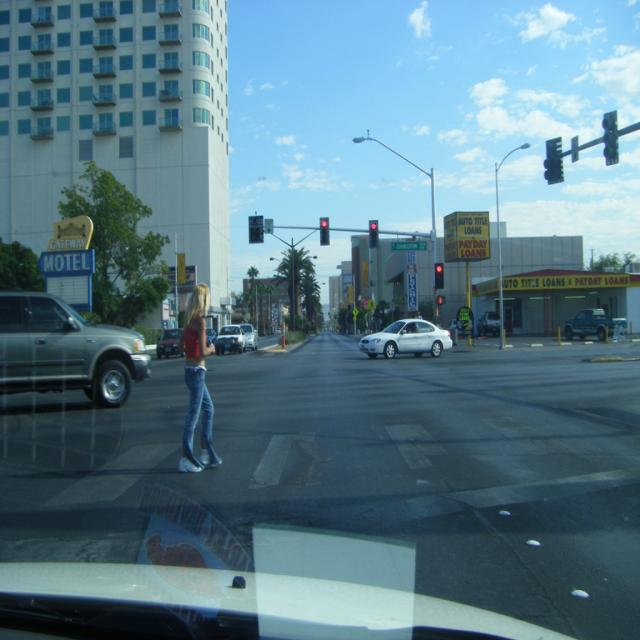off traffic light: (544, 138, 563, 185), (602, 111, 618, 165)
traffic light: (434, 262, 445, 291), (368, 219, 378, 246), (320, 217, 329, 245)
